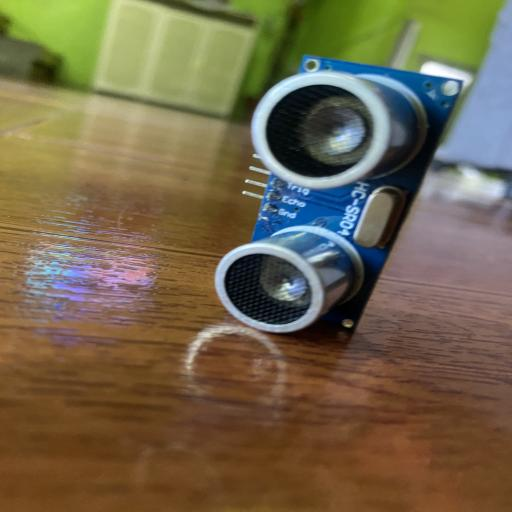Ultrasonic Sensor: (212, 54, 467, 348)
